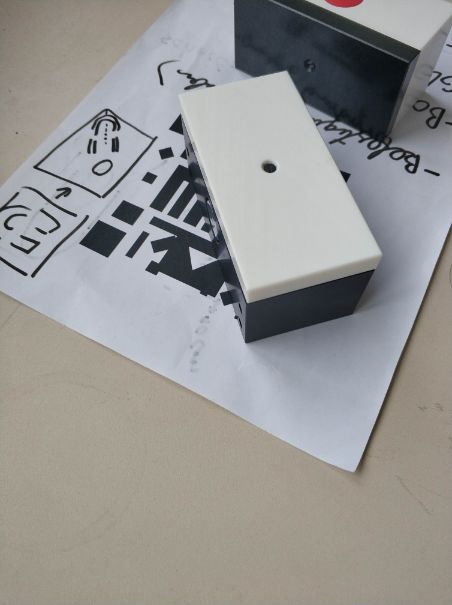black+white+red: (231, 1, 451, 147)
white+black+silver: (176, 69, 384, 345)
